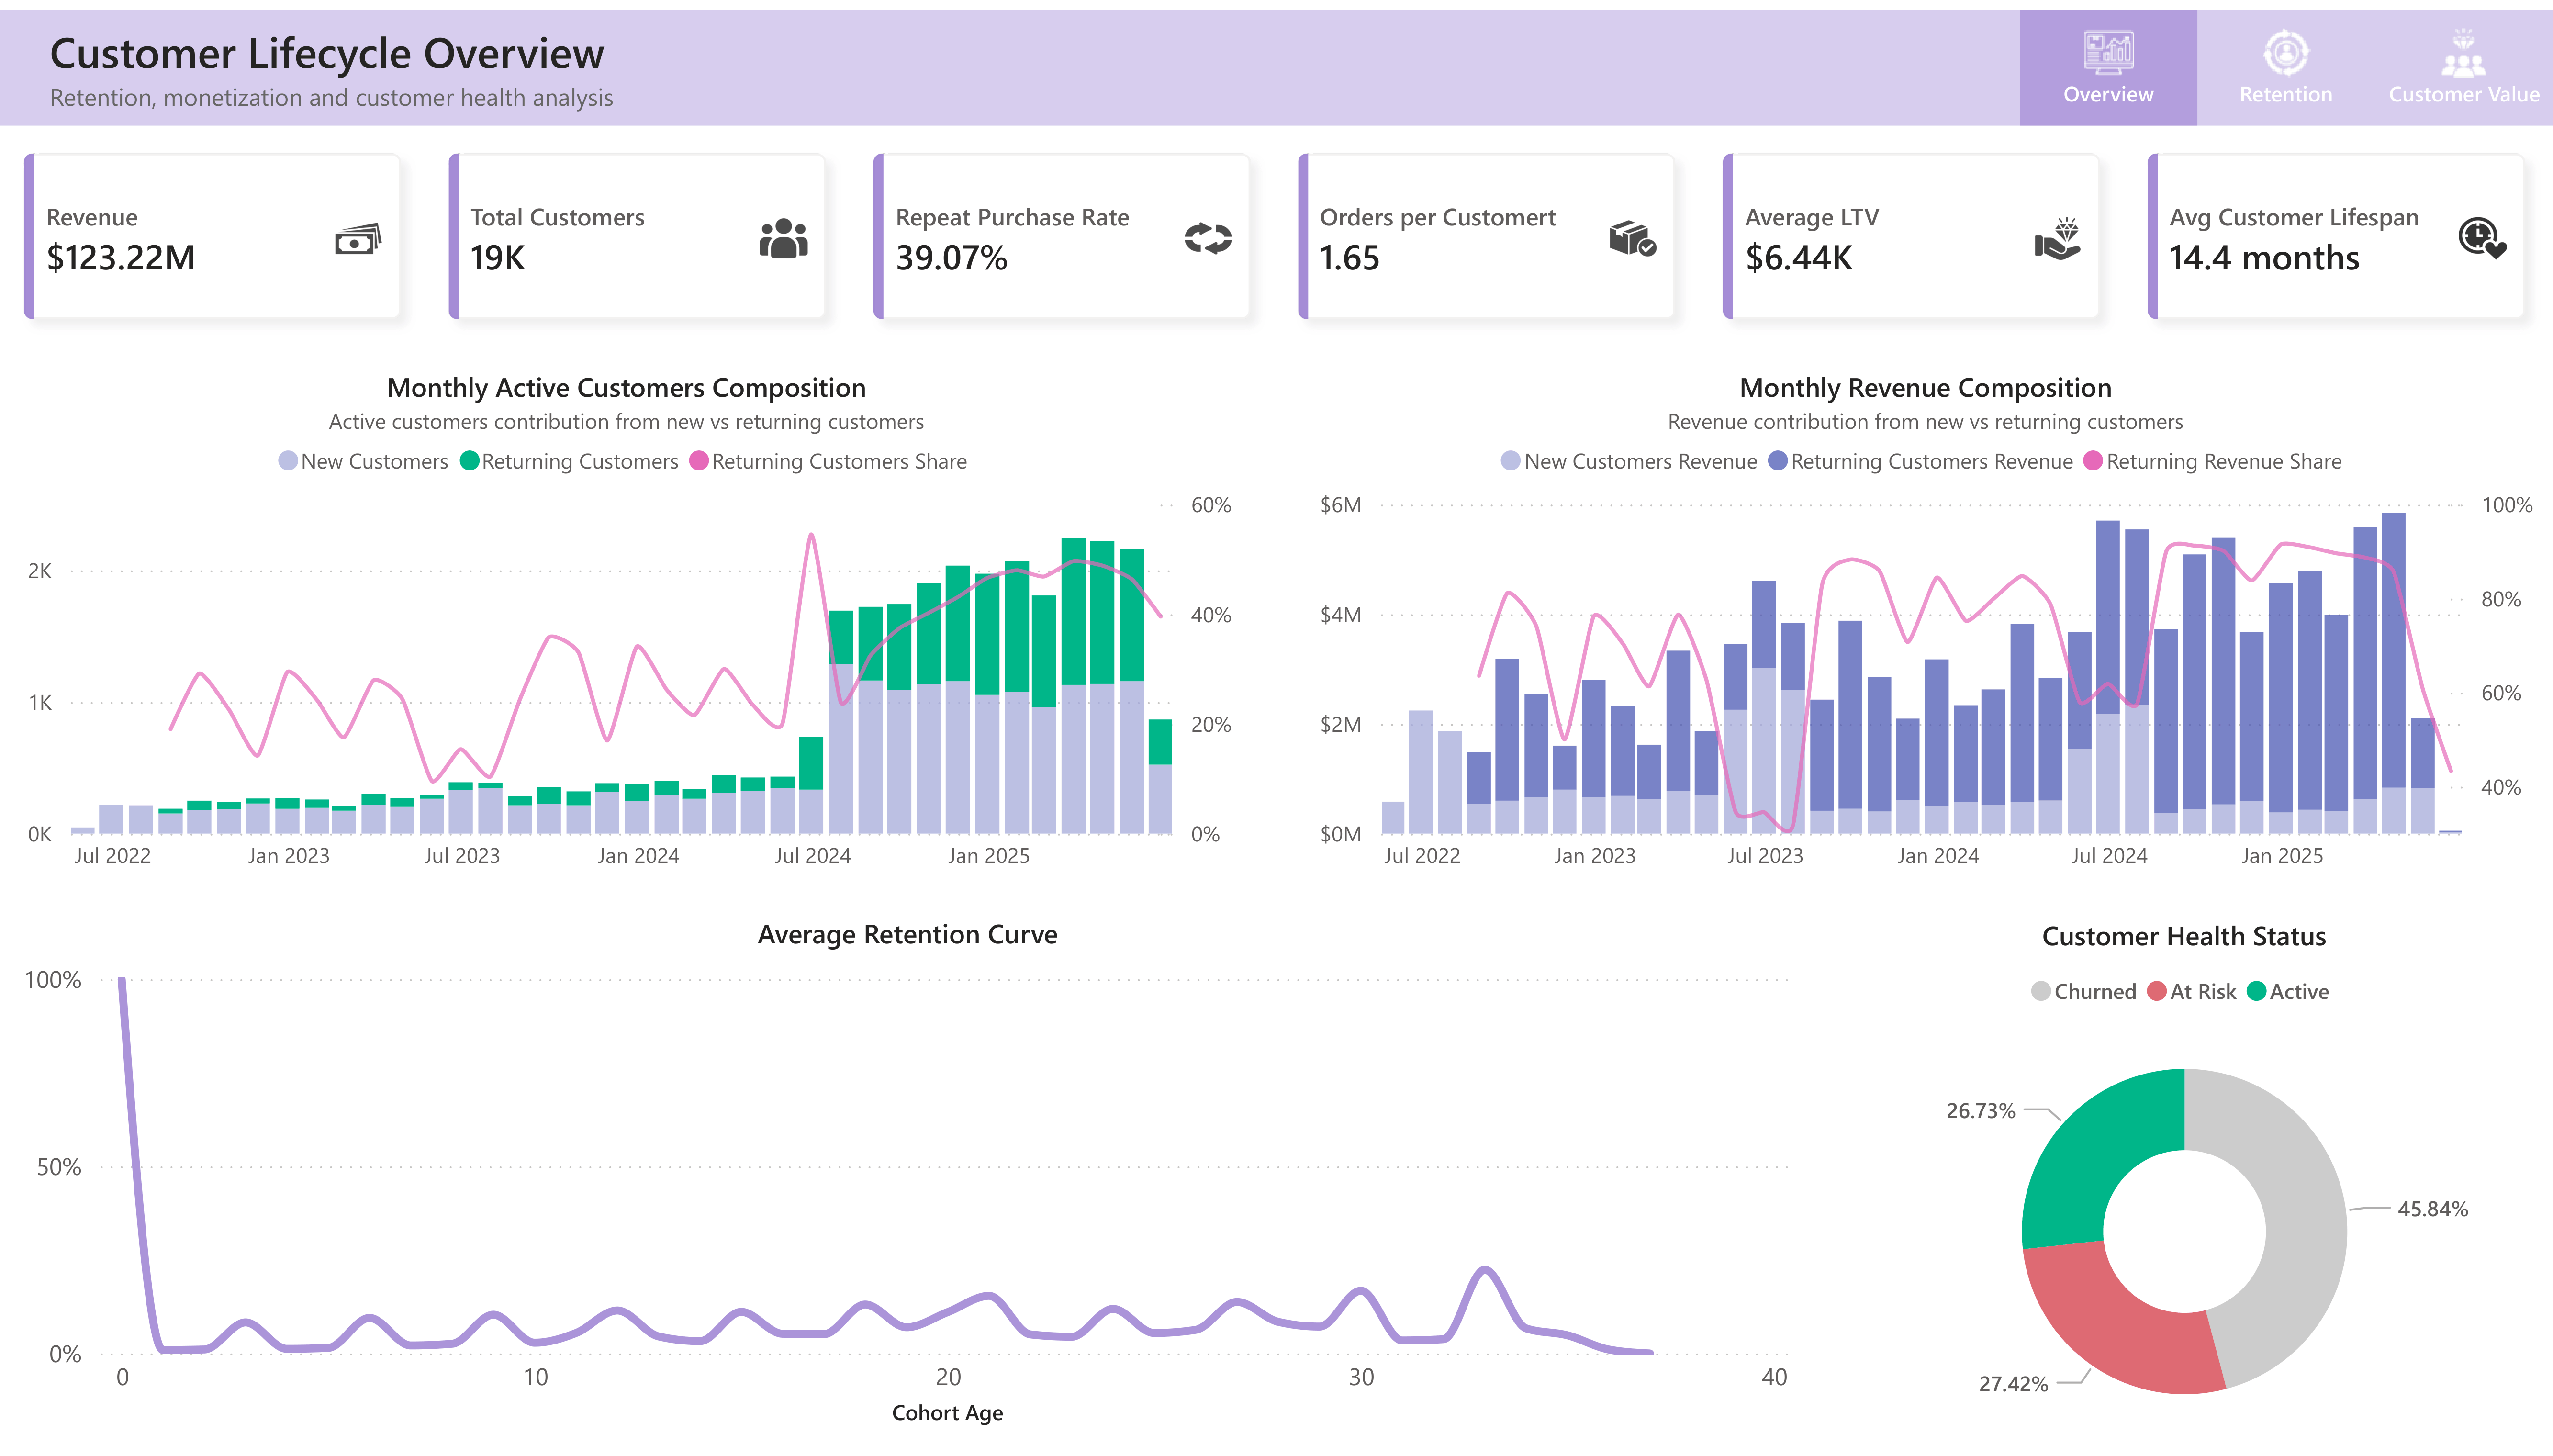

This screenshot's page, from the dashboard's own definition file:
{"tool":"powerbi","page":{"name":"Customer Lifecycle Overview","canvas":[1280,720],"ordinal":0},"visuals":[{"type":"shape","box":[0,0,1280.4,58],"z":0},{"type":"cardVisual","fields":{"Data":["Measures Layer.Revenue","Measures Layer.Total Customers","Measures Layer.Repeat Purchase Rate","Measures Layer.Avg Orders per Customer","Measures Layer.Average LTV","2. KPI.Average Customer Lifespan"]},"box":[0,58,1280.4,111.5],"z":1000},{"type":"lineStackedColumnComboChart","title":"Monthly Active Customers Composition","fields":{"Category":["Calendar.End Of Month"],"Y":["1. MAU.New Customers","1. MAU.Returning Customers"],"Y2":["1. MAU.Returning Customers Share"]},"box":[0,169.6,628.4,275.7],"z":2000},{"type":"lineChart","title":"Average Retention Curve","fields":{"Category":["retention_monthly.cohort_age_month"],"Y":["retention_monthly.Retantion Rate"]},"box":[0,444.3,909.5,275.7],"z":3000},{"type":"textbox","title":"Customer Lifecycle Overview","box":[19.9,6.3,355.5,69.8],"z":4000},{"type":"donutChart","title":"Customer Health Status","fields":{"Category":["customer_health.Customer Status"],"Y":["2. KPI.Total Customers"]},"box":[909.5,445.2,370.9,274.8],"z":5000},{"type":"actionButton","box":[1012.9,0,88.9,58],"z":6000},{"type":"actionButton","box":[1101.8,0,88.9,58],"z":7000},{"type":"actionButton","box":[1190.6,0,89.8,58],"z":8000},{"type":"lineStackedColumnComboChart","title":"Monthly Revenue Composition","fields":{"Category":["Calendar.End Of Month"],"Y":["1. MAU.New Customers Revenue","1. MAU.Returning Customers Revenue"],"Y2":["1. MAU.Returning Revenue Share"]},"box":[651.1,169.6,629.3,275.7],"z":9000}]}

Visuals, with their boxes in screenshot pixels (x1, y1, x2, y2), scaled from the page's 1280x720 canvas onto the 2553x1456 screenshot:
shape: 0, 0, 2553, 117
cardVisual - Measures Layer.Revenue x Measures Layer.Total Customers: 0, 117, 2553, 343
"Monthly Active Customers Composition" lineStackedColumnComboChart: 0, 343, 1254, 900
"Average Retention Curve" lineChart: 0, 898, 1814, 1456
"Customer Lifecycle Overview" textbox: 40, 13, 749, 154
"Customer Health Status" donutChart: 1814, 900, 2553, 1456
actionButton: 2020, 0, 2197, 117
actionButton: 2197, 0, 2375, 117
actionButton: 2374, 0, 2553, 117
"Monthly Revenue Composition" lineStackedColumnComboChart: 1299, 343, 2553, 900
